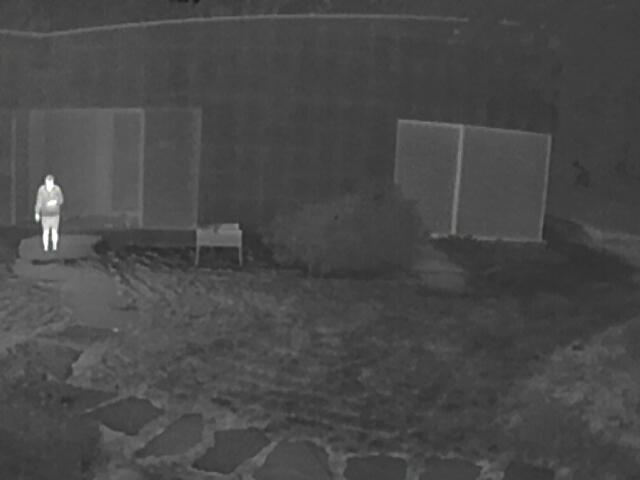person: (34, 172, 64, 252)
